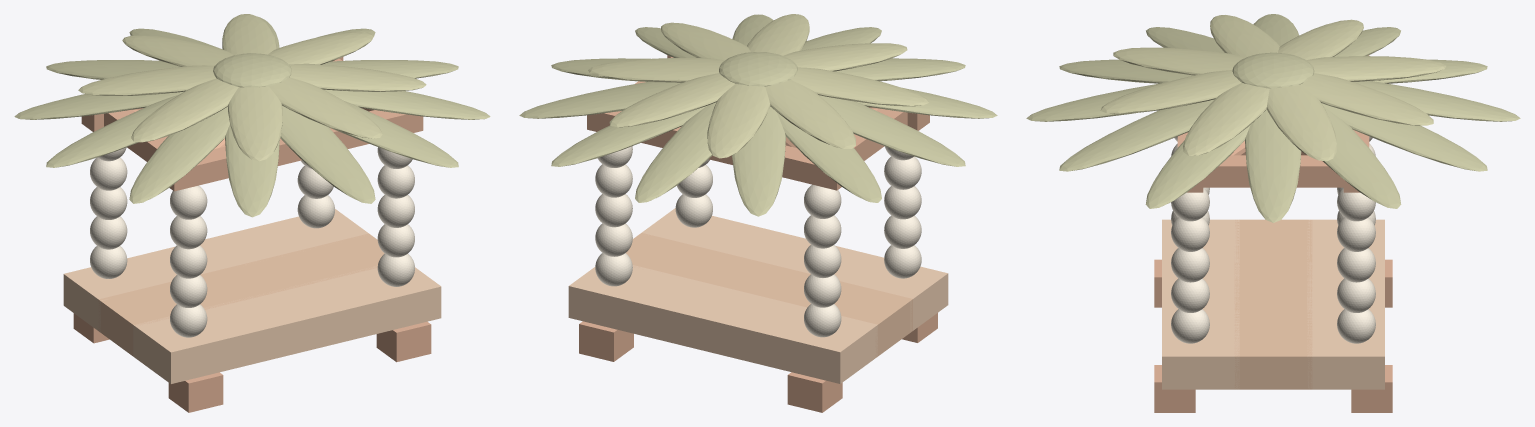
Rendered from suffa.glb.
3 views of the same model, side by side, from view 1: azimuth 30°, elevation 25°; view 2: azimuth 150°, elevation 25°; view 3: azimuth 270°, elevation 25° (orthographic). The views are drawn at different scales.
Parts seen in each view (by area): view 1: Plank_0, Plank_1, Plank_2, Frond_9, Frond_7, FrondTop_5, FrondTop_4, FrondTop_6, FrondTop_3, Frond_8, FrondTop_7, Frond_11 (+31 smaller); view 2: Plank_2, Plank_1, Plank_0, Frond_4, Frond_3, Frond_6, FrondTop_2, FrondTop_3, FrondTop_1, Frond_5, FrondTop_4, Frond_2 (+33 smaller); view 3: Plank_1, Plank_0, Plank_2, Frond_0, Frond_10, FrondTop_0, FrondTop_7, Frond_2, FrondTop_1, Frond_1, FrondTop_6, Frond_11 (+25 smaller).
Boxes of the visible parts, left/top/right/bottom form: Plank_0: left=133, top=266, right=441, bottom=383; Plank_1: left=98, top=233, right=384, bottom=356; Plank_2: left=63, top=209, right=368, bottom=332; Frond_9: left=280, top=106, right=375, bottom=203; Frond_7: left=129, top=106, right=229, bottom=203; FrondTop_5: left=228, top=86, right=282, bottom=161; FrondTop_4: left=131, top=78, right=238, bottom=142; FrondTop_6: left=269, top=77, right=382, bottom=138; FrondTop_3: left=78, top=65, right=216, bottom=95; Frond_8: left=225, top=124, right=279, bottom=217; FrondTop_7: left=289, top=63, right=426, bottom=91; Frond_11: left=324, top=89, right=490, bottom=119; Plank_2: left=568, top=265, right=877, bottom=383; Plank_1: left=626, top=233, right=912, bottom=357; Plank_0: left=642, top=208, right=948, bottom=332; Frond_4: left=732, top=106, right=785, bottom=216; Frond_3: left=635, top=102, right=716, bottom=202; Frond_6: left=819, top=95, right=965, bottom=166; FrondTop_2: left=707, top=84, right=770, bottom=158; FrondTop_3: left=765, top=80, right=855, bottom=148; FrondTop_1: left=609, top=73, right=735, bottom=127; Frond_5: left=776, top=112, right=881, bottom=202; FrondTop_4: left=791, top=67, right=928, bottom=106; Frond_2: left=551, top=105, right=707, bottom=166; Plank_1: left=1234, top=219, right=1312, bottom=389; Plank_0: left=1162, top=219, right=1239, bottom=389; Plank_2: left=1307, top=219, right=1384, bottom=389; Frond_0: left=1245, top=109, right=1301, bottom=222; Frond_10: left=1059, top=99, right=1214, bottom=171; FrondTop_0: left=1266, top=85, right=1336, bottom=161; FrondTop_7: left=1183, top=82, right=1269, bottom=155; Frond_2: left=1321, top=103, right=1487, bottom=171; FrondTop_1: left=1300, top=73, right=1433, bottom=125; Frond_1: left=1322, top=107, right=1401, bottom=208; FrondTop_6: left=1100, top=70, right=1241, bottom=113; Frond_11: left=1145, top=125, right=1250, bottom=208.
Size of the model in its own units: 1.91 by 1.23 by 1.91.
